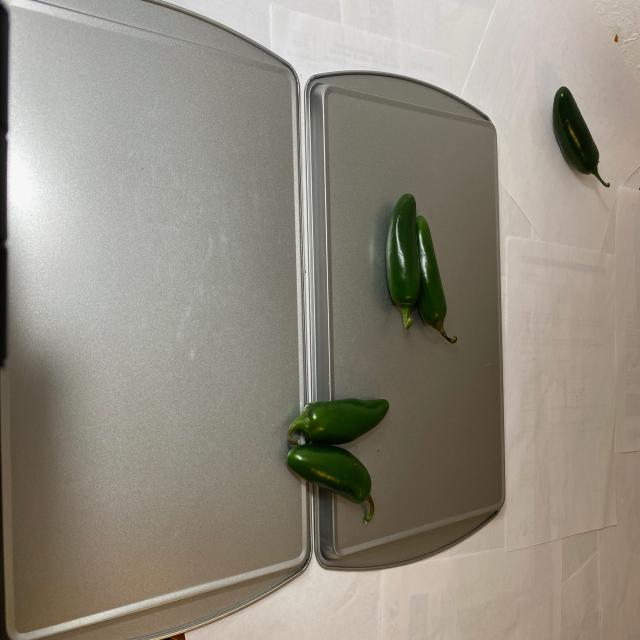chilli: (276, 390, 392, 526), (384, 190, 459, 350), (540, 77, 614, 201)
